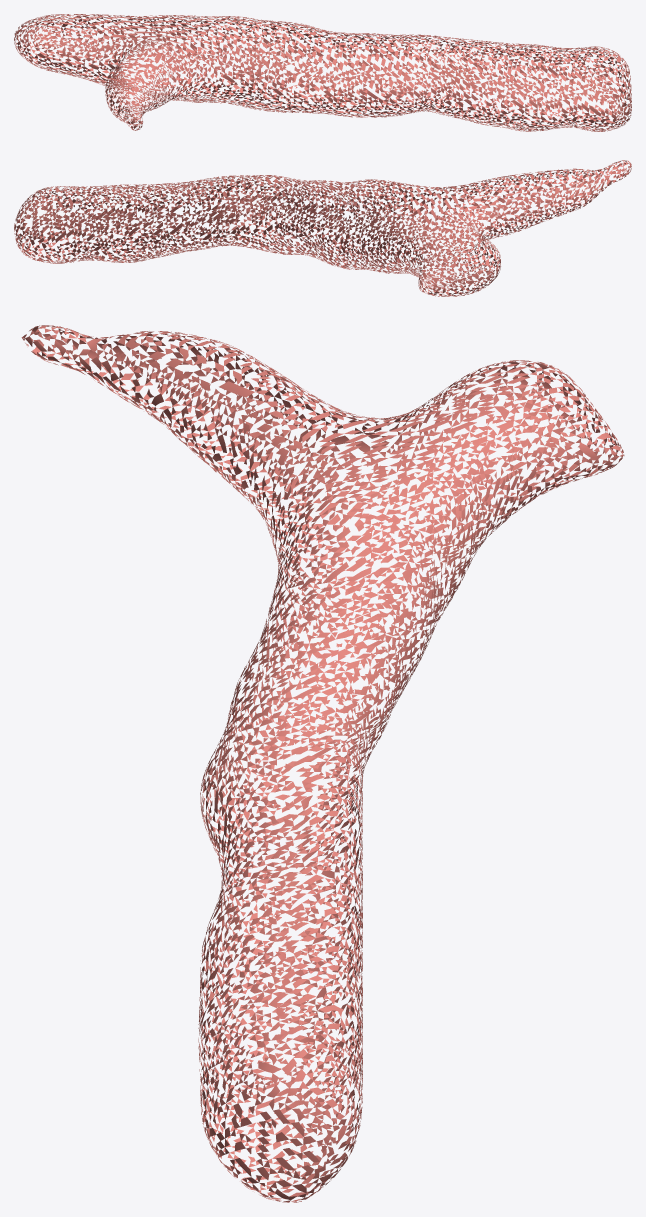
The model's file is morph_001.glb.
The picture shows the model from 3 angles, top to bottom: view 1: azimuth 30°, elevation 25°; view 2: azimuth 150°, elevation 25°; view 3: azimuth 270°, elevation 25°; orthographic projection. The views are drawn at different scales.
Size of the model in its own units: 106 by 34.99 by 50.64.
